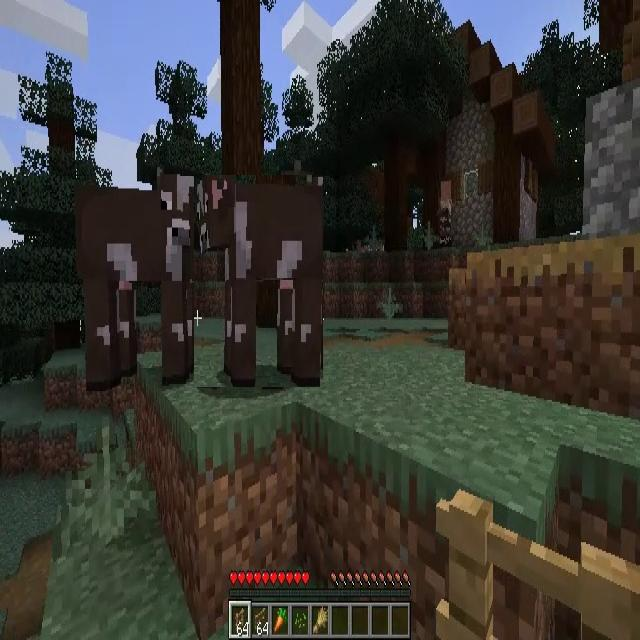cow: (194, 175, 323, 388), (76, 176, 193, 386)
